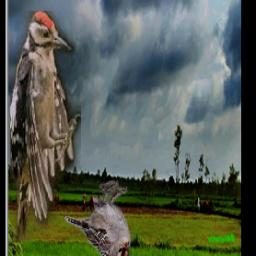Sparrow: (64, 182, 133, 256)
Woodpecker: (9, 11, 80, 243)
